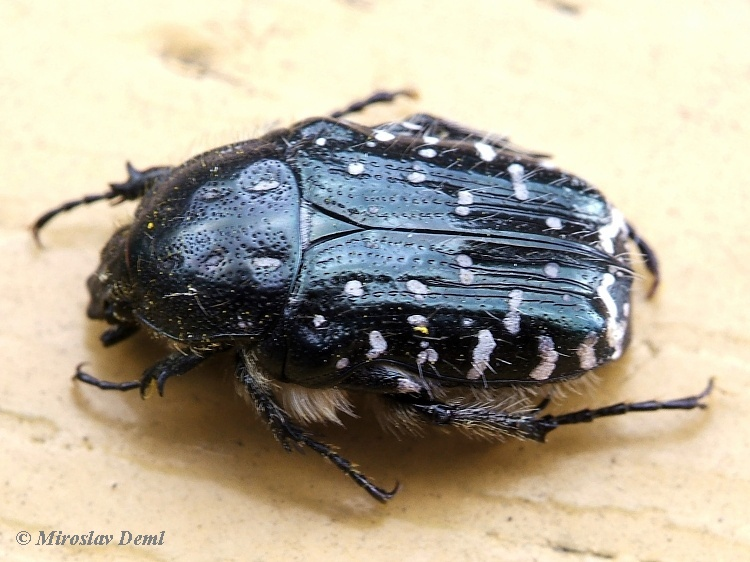Oxythyrea_funesta: (26, 67, 725, 512)
